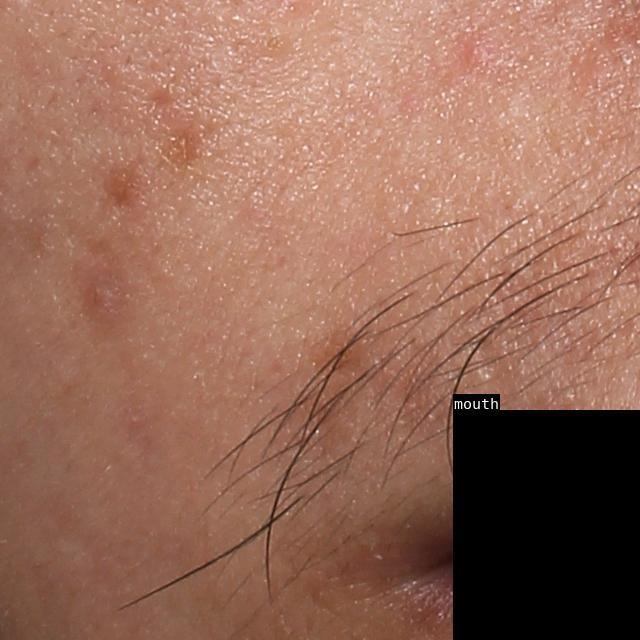atrophic_scar: (159, 124, 210, 163), (141, 88, 173, 118)
papule: (79, 273, 120, 317)
